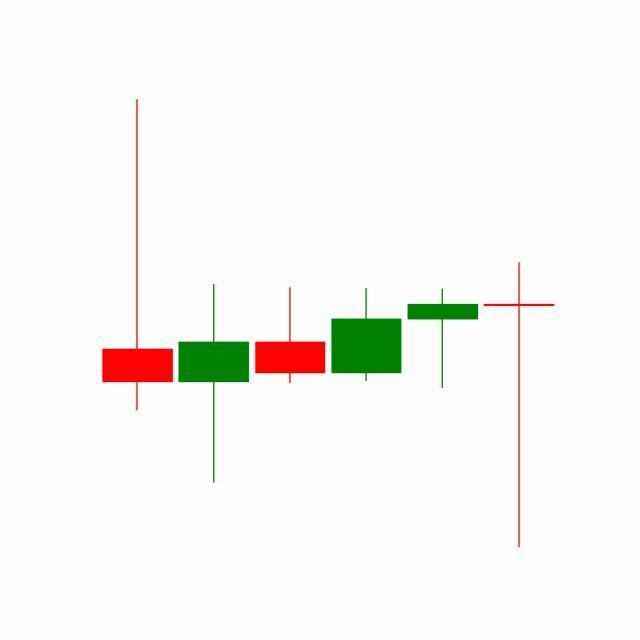Dragonfly Doji: (404, 288, 482, 390)
